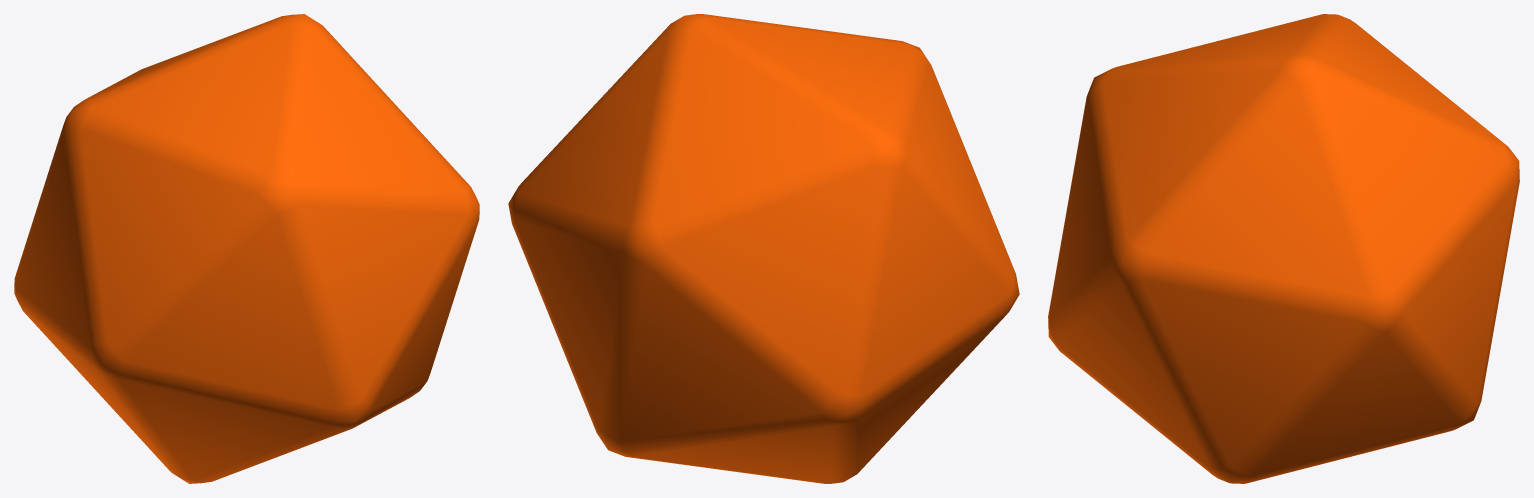
The model's file is 20die.fbx.
3 renders of one model, left to right at view 1: azimuth 30°, elevation 25°; view 2: azimuth 150°, elevation 25°; view 3: azimuth 270°, elevation 25°, orthographic. The views are drawn at different scales.
Parts seen in each view (by area): view 1: Solid; view 2: Solid; view 3: Solid.
Part boxes in pixels (x1,y1,x2,y2): Solid: (14,14,479,483); Solid: (508,14,1019,483); Solid: (1048,14,1519,483).
Size of the model in its own units: 176 by 183 by 178.
